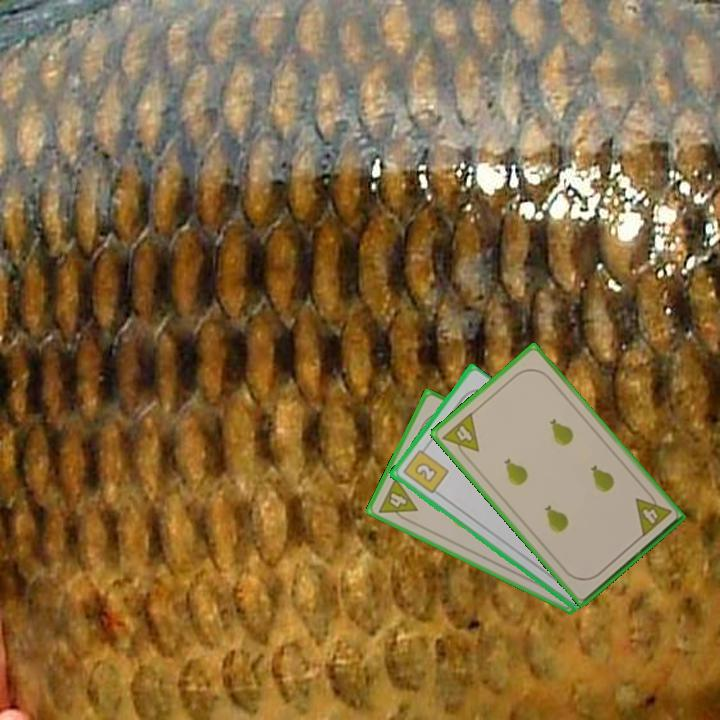2b: (399, 442, 451, 496)
4p: (374, 474, 420, 526), (439, 409, 482, 463), (631, 487, 674, 540)
